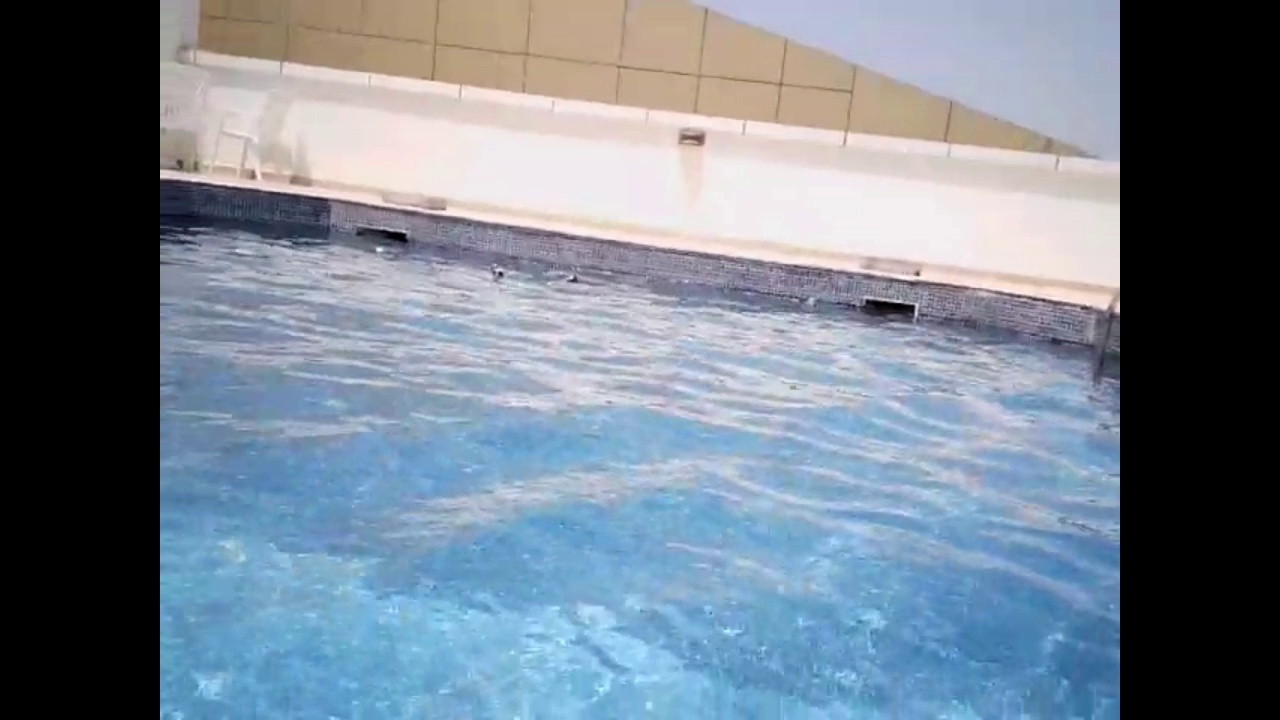debris: (486, 255, 508, 283), (795, 293, 822, 315), (372, 240, 389, 259), (560, 270, 580, 285)
